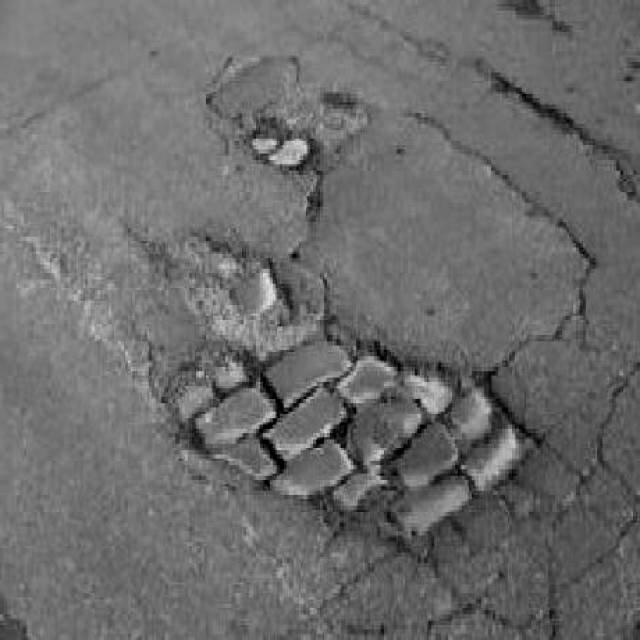Pothole: (161, 329, 543, 553), (171, 226, 303, 346), (248, 115, 316, 171)
